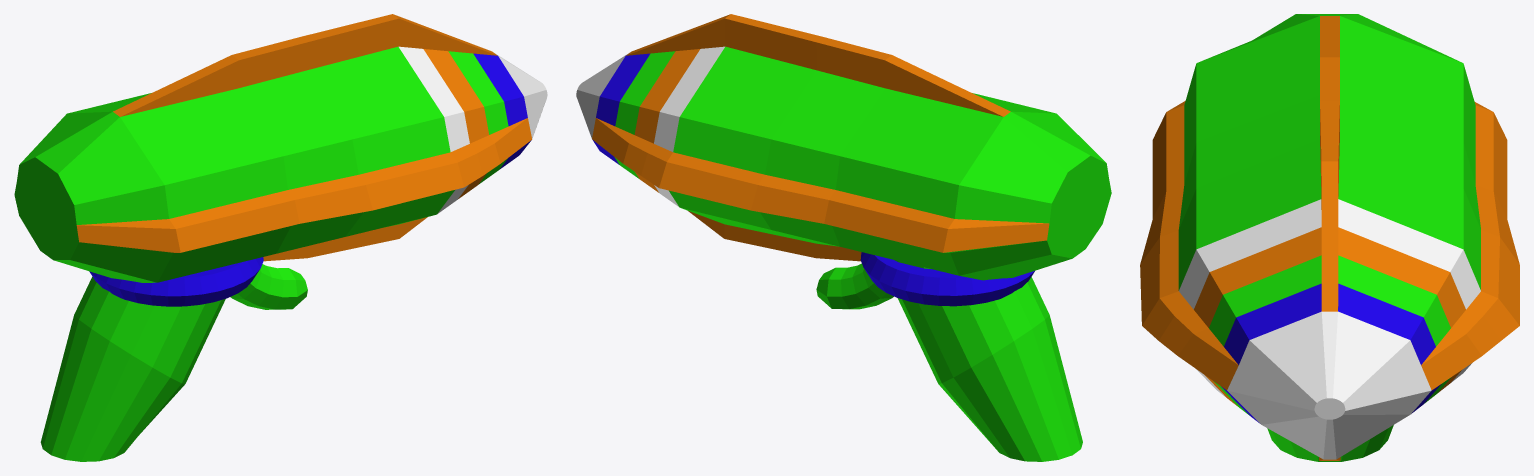
File: watergun.fbx
3 views of the same model, side by side, from view 1: azimuth 30°, elevation 25°; view 2: azimuth 150°, elevation 25°; view 3: azimuth 270°, elevation 25° (orthographic). The views are drawn at different scales.
Visible parts, largest first — view 1: GUN; view 2: GUN; view 3: GUN.
Part boxes in pixels (x1,y1,x2,y2): GUN: (14,14,547,461); GUN: (576,14,1111,461); GUN: (1140,14,1519,461).
Size of the model in its own units: 637 by 434 by 309.
